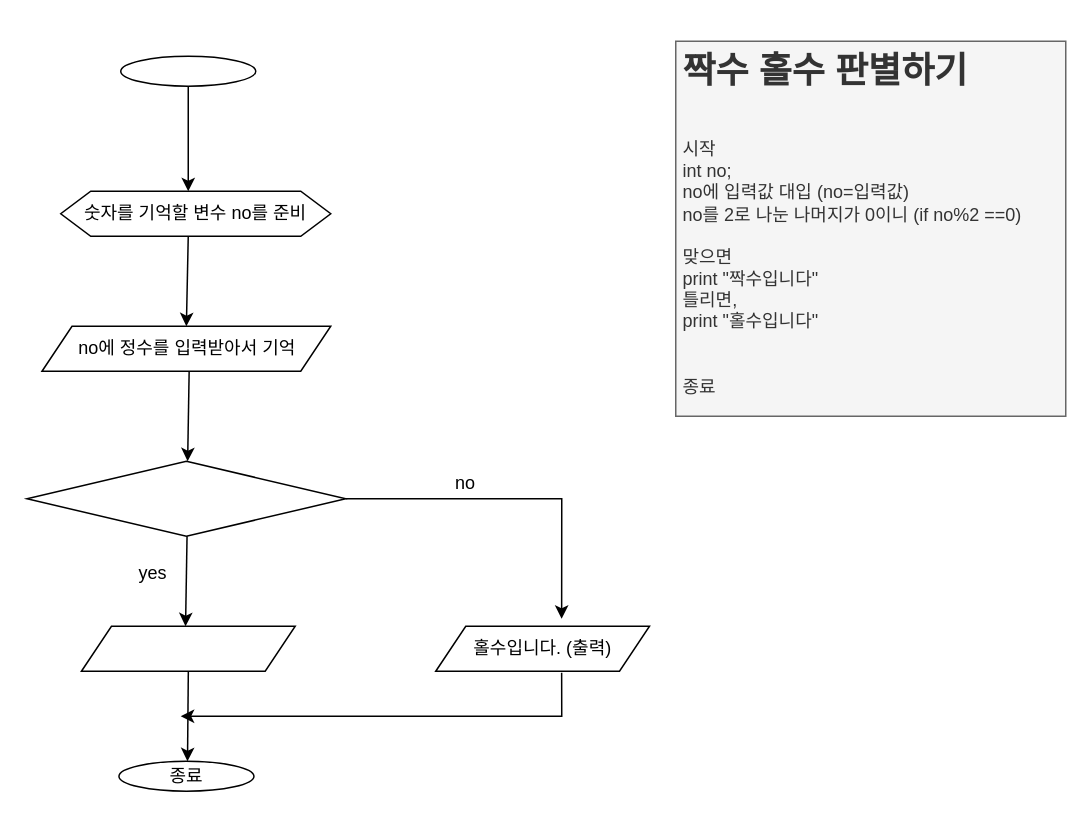
The diagram is 1092 pixels wide and 818 high, and some of its shapes have lost their labels. The shapes that lost their labels are listed below. From the top down, each one's centre as x and y in pixels, then its label:
the point at 187,70: 시작
the point at 186,498: no를 2로 나눈 나머지가 0이니?
the point at 187,648: 짝수입니다. (출력)
